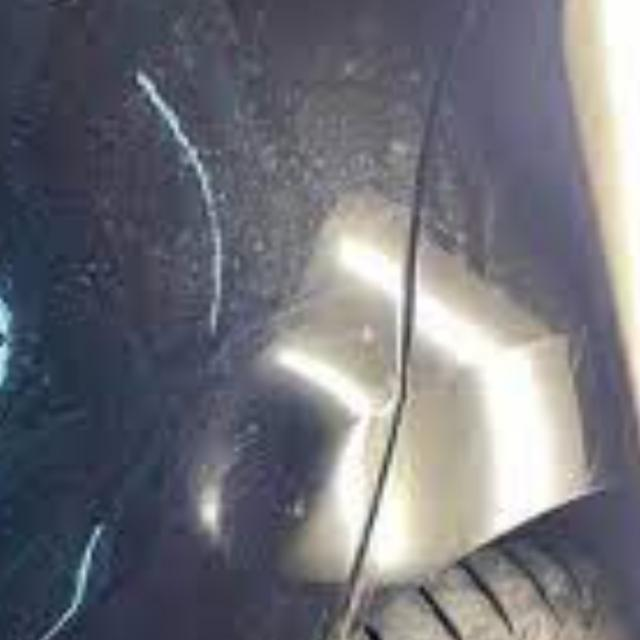dents: (151, 365, 384, 583)
